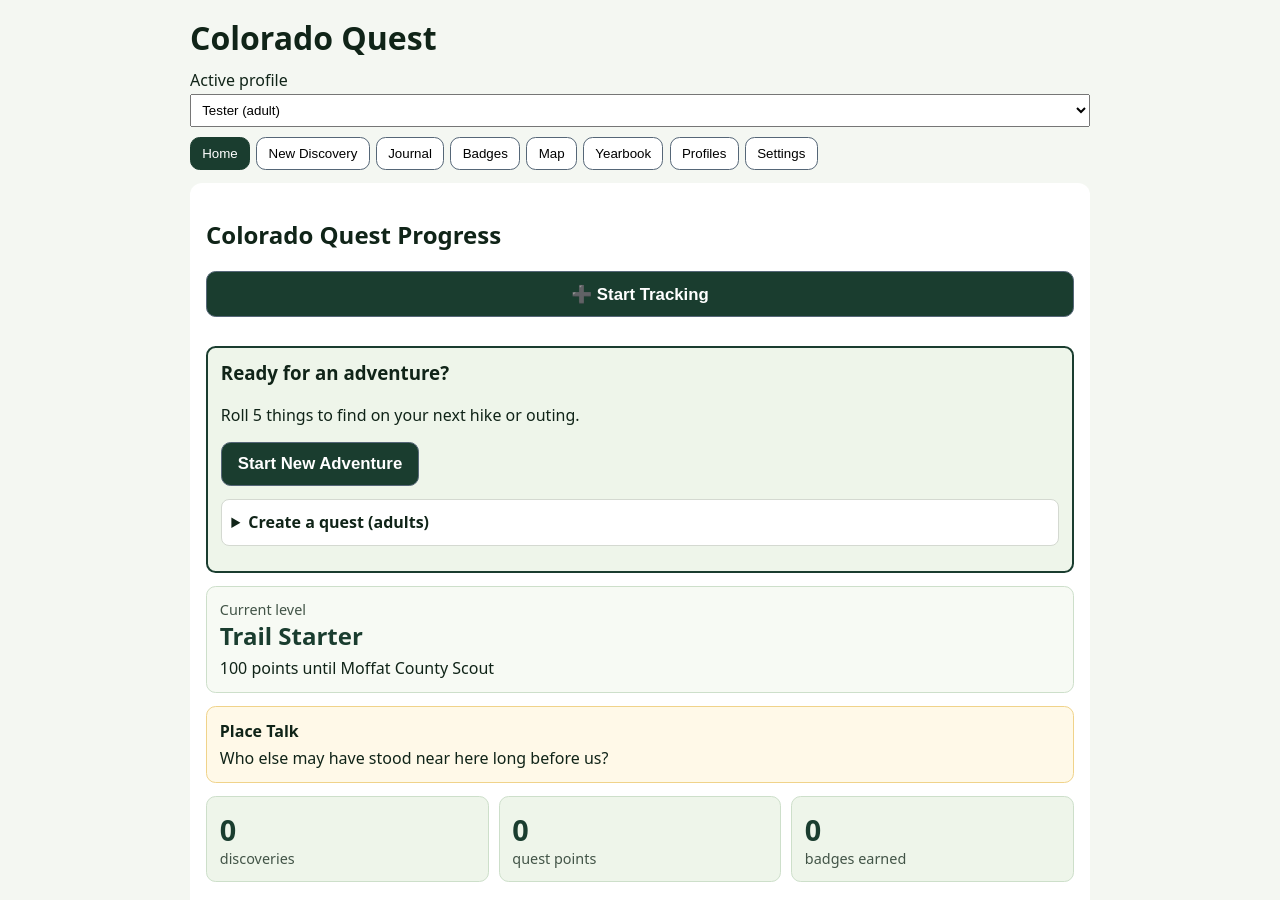
adventure mode › checking off all items shows completion message
Click the button "Start New Adventure": (320, 464) 221,442 -> 419,486
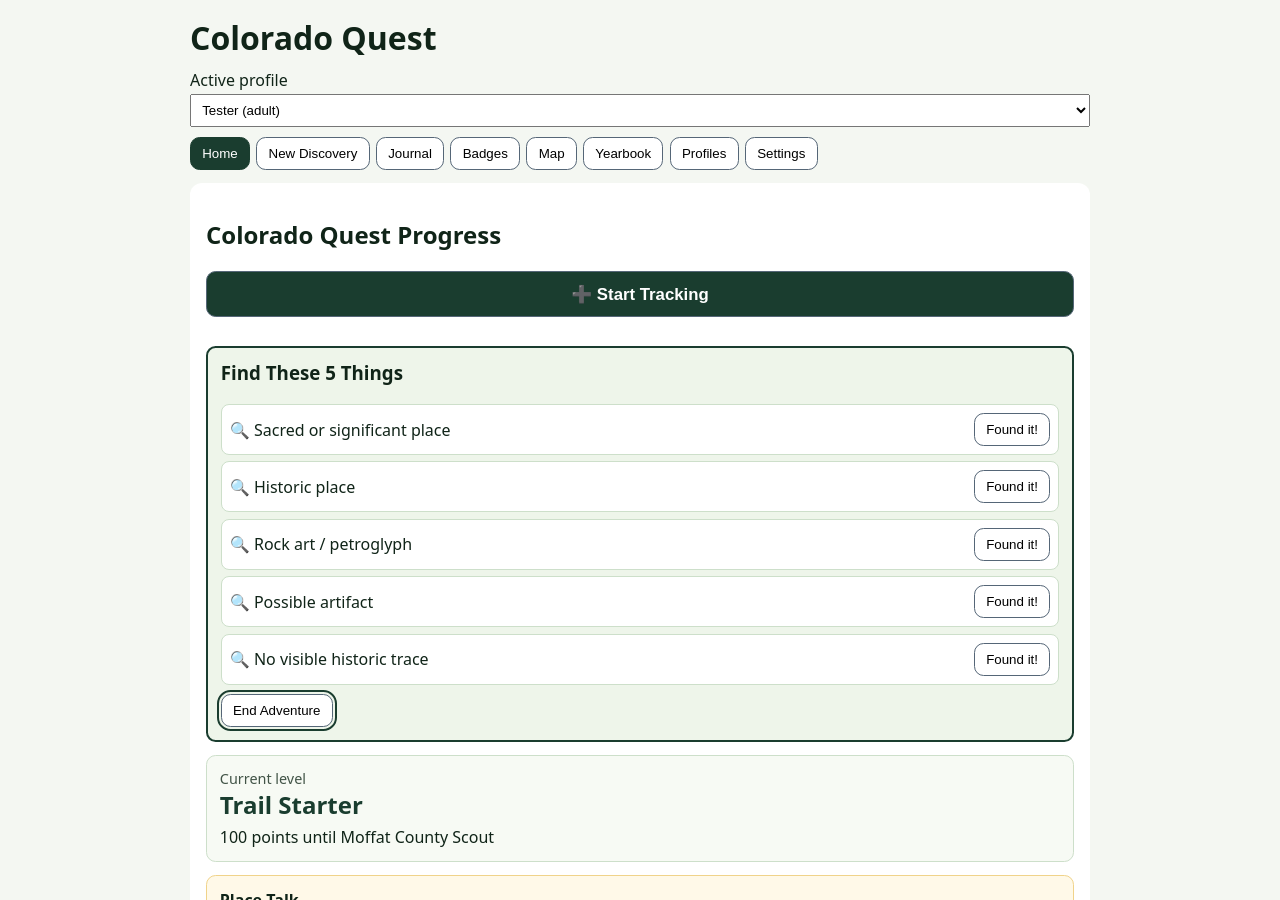
Click the button "Found it!" in the row of "Sacred or significant place": (1012, 430) 974,413 -> 1050,446
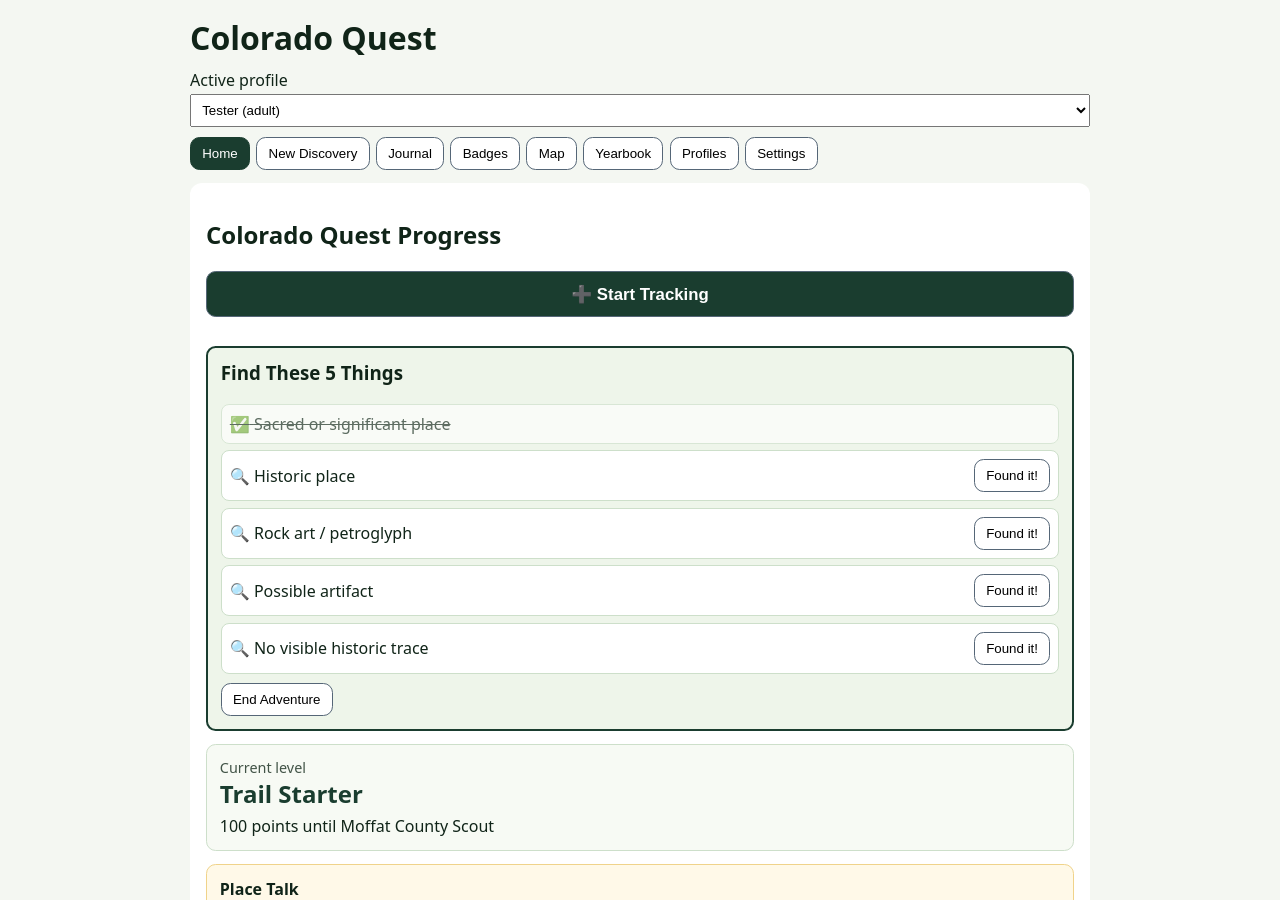
Click the button "Found it!" in the row of "Historic place": (1012, 476) 974,459 -> 1050,492
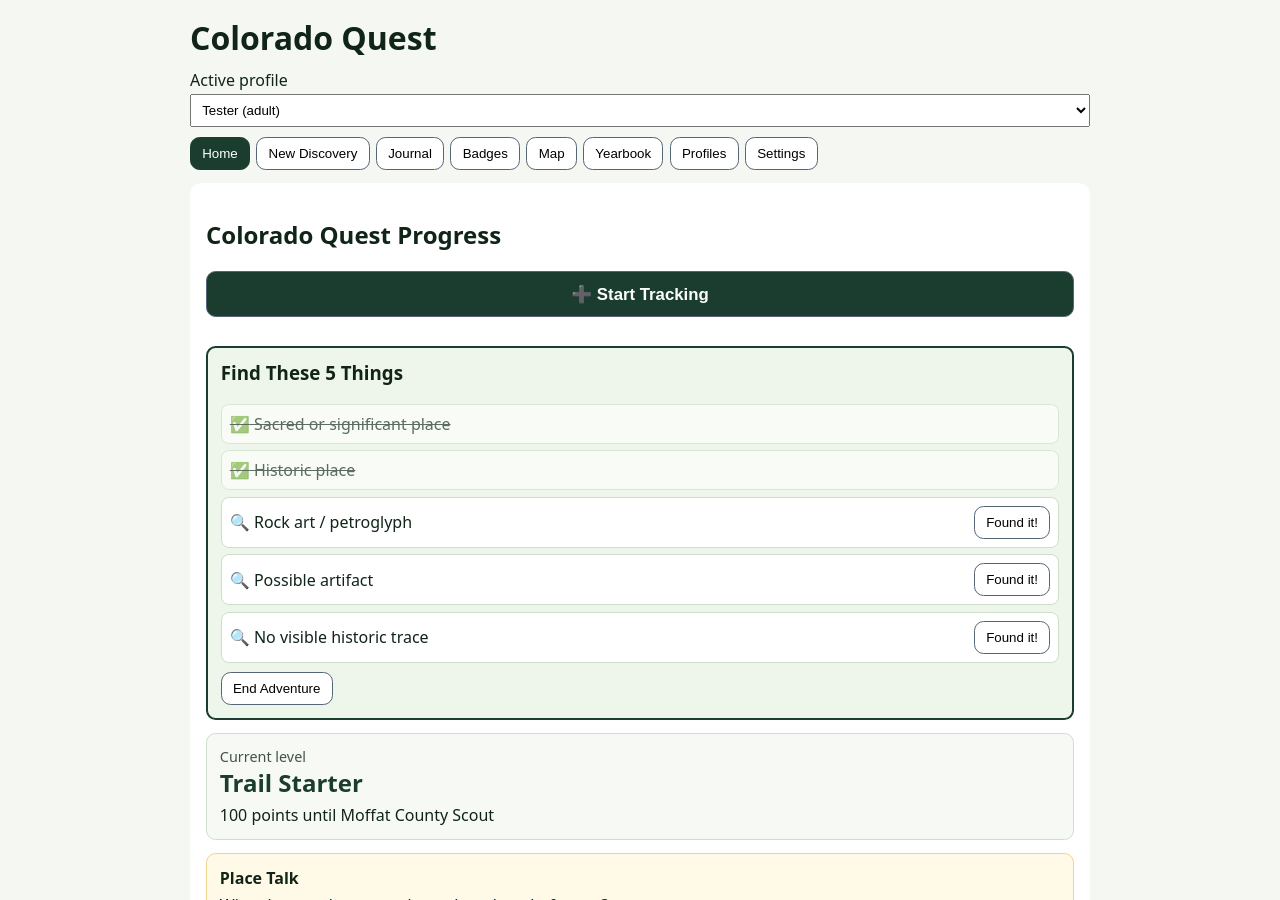
Click the button "Found it!" in the row of "Rock art / petroglyph": (1012, 522) 974,506 -> 1050,539
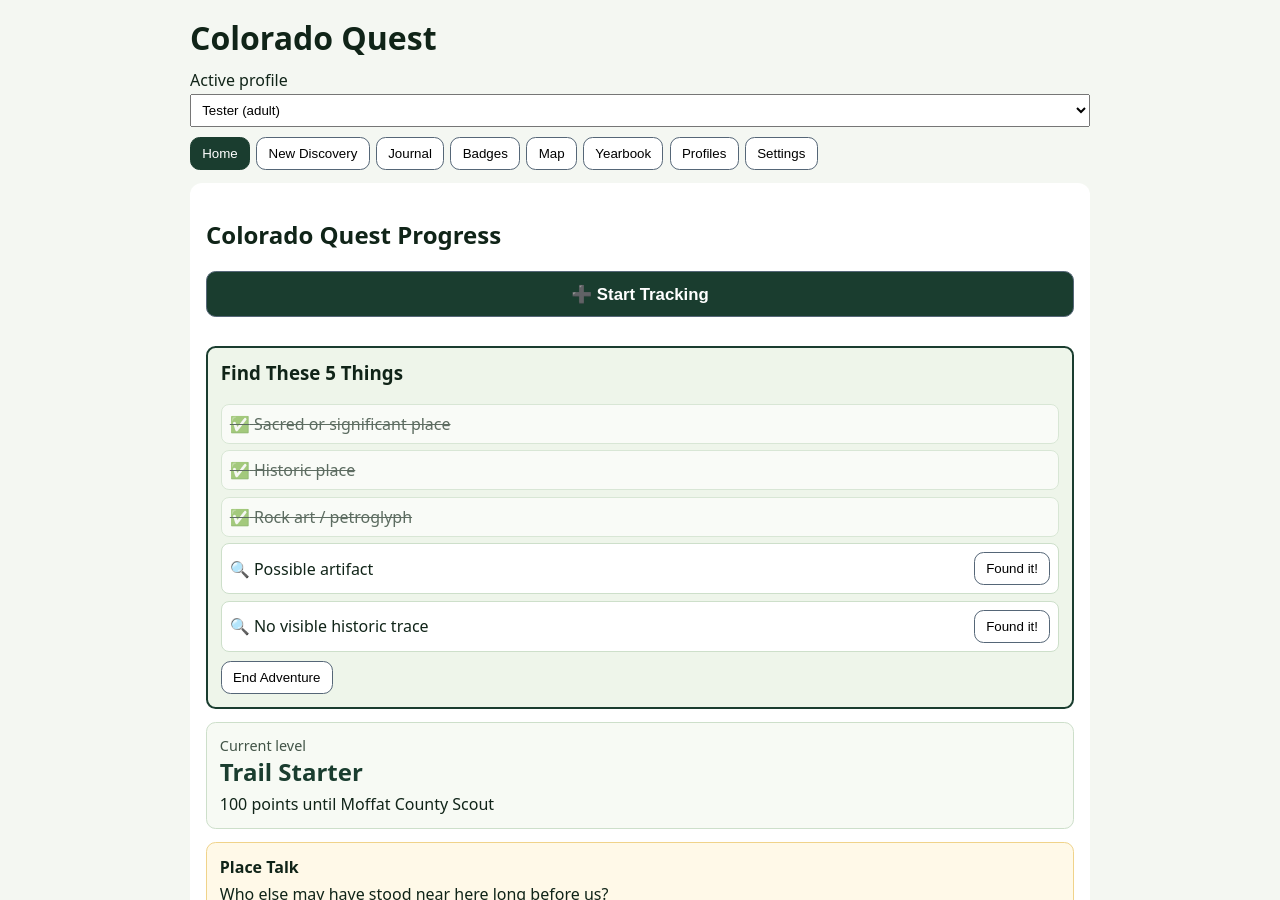
Click the button "Found it!" in the row of "Possible artifact": (1012, 569) 974,552 -> 1050,585
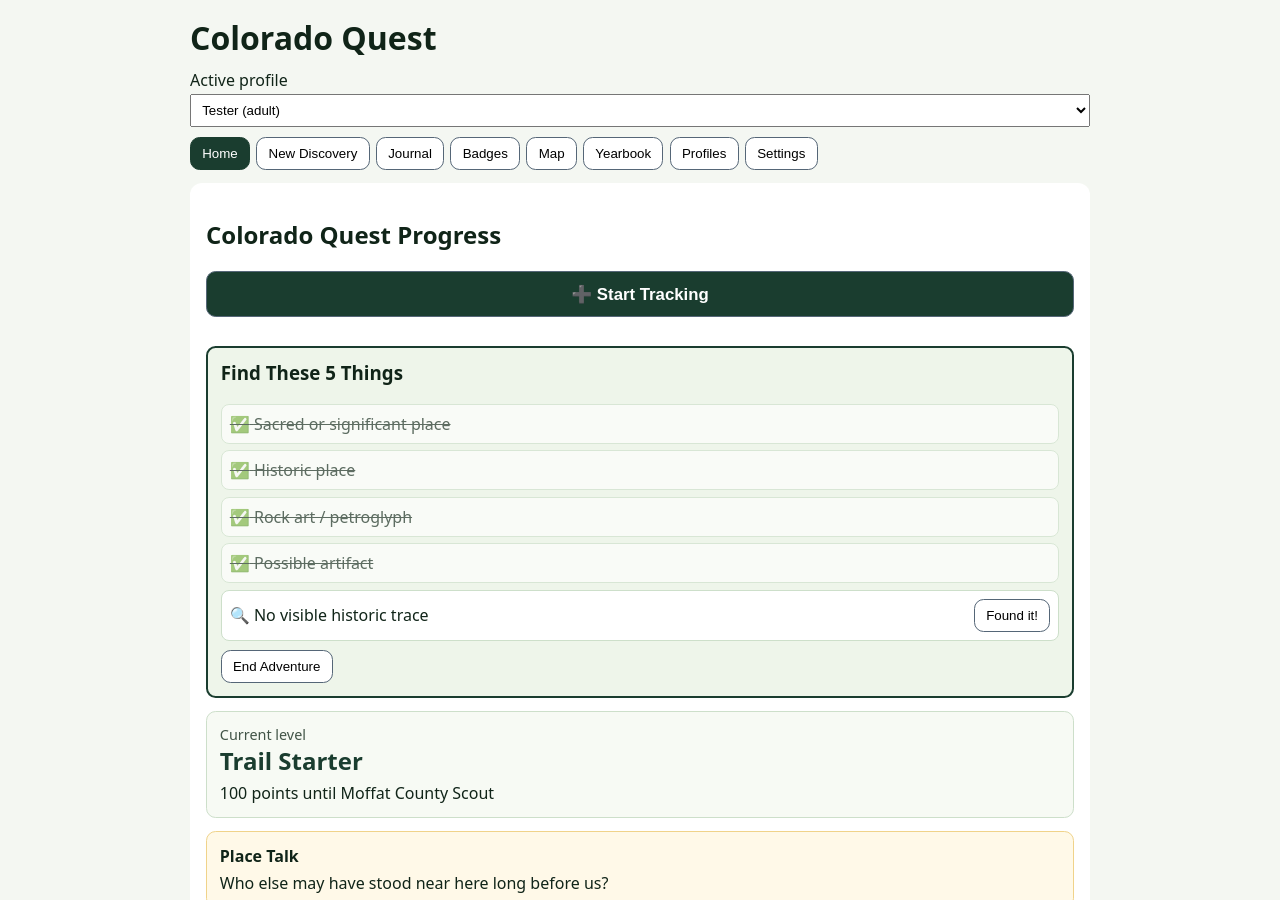
Click the button "Found it!": (1012, 615) 974,599 -> 1050,632
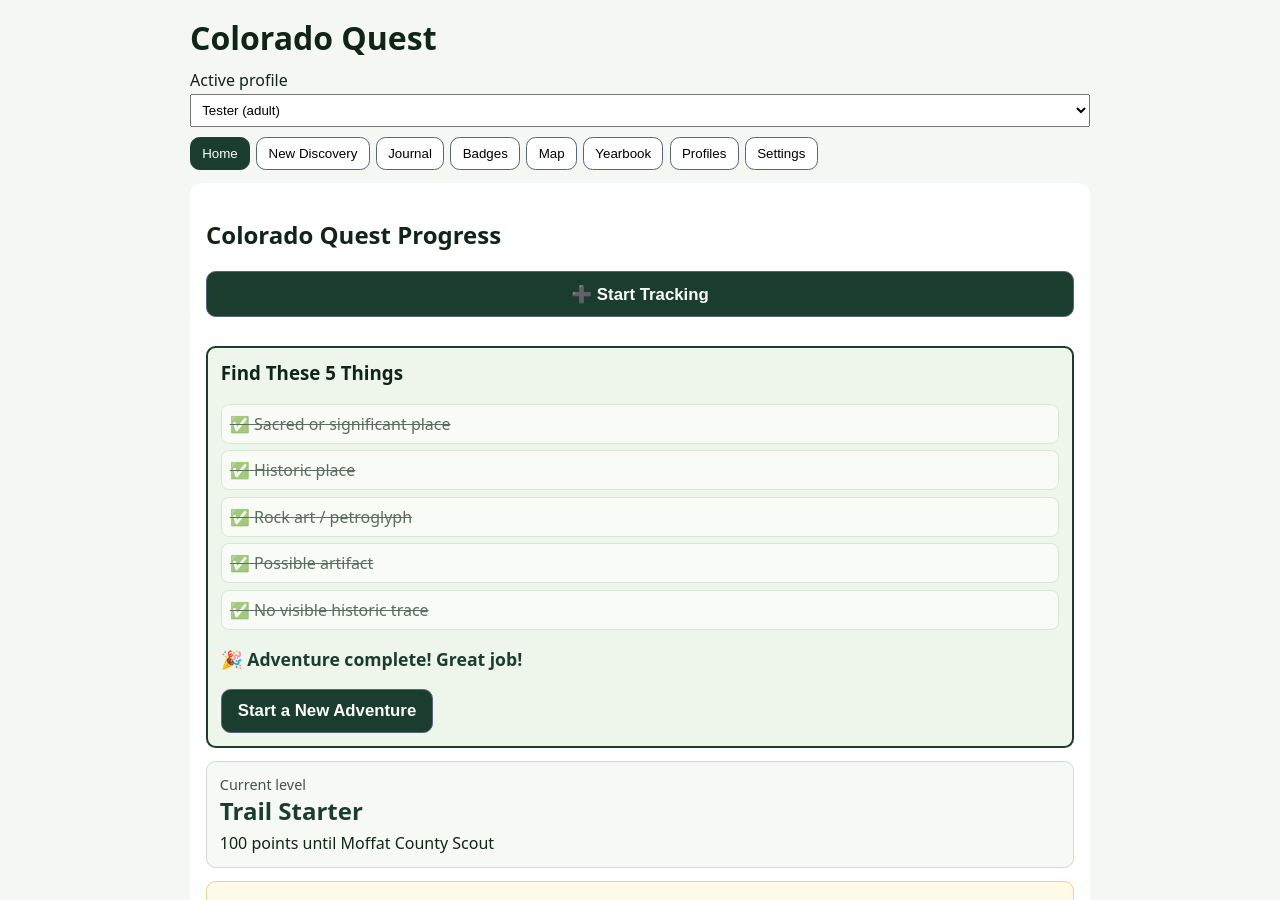
Expected: the text "🎉 Adventure complete! Great job!" is shown, 221,647 -> 522,671
